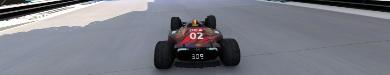Car: (153, 15, 240, 68)
